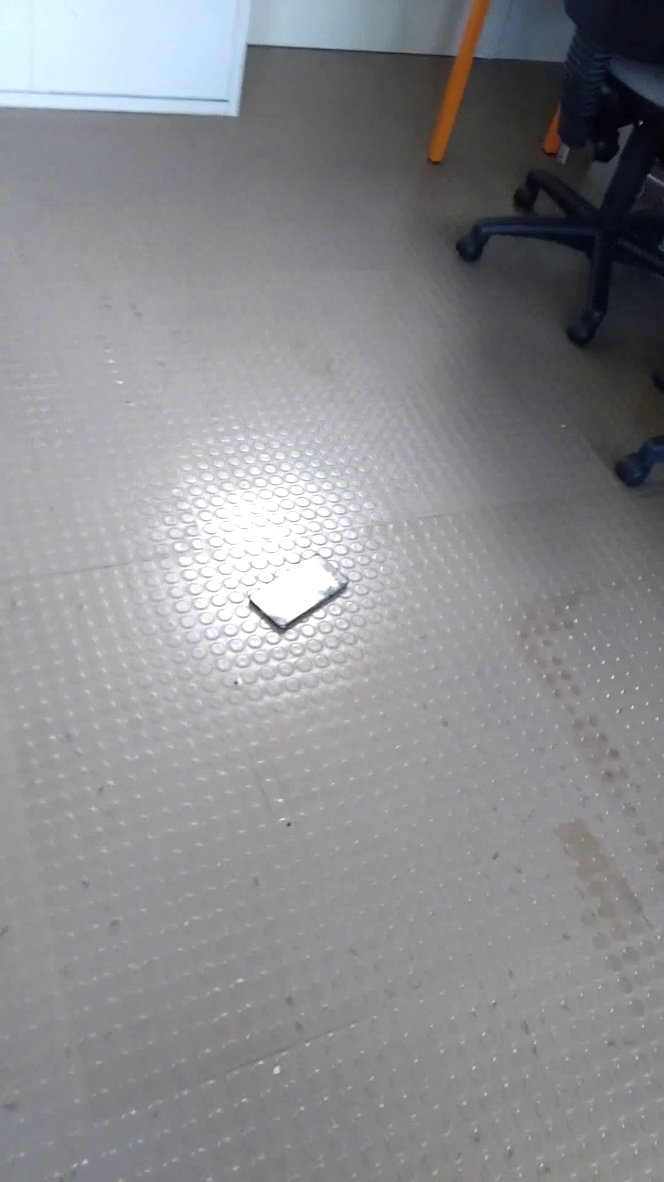phone: (237, 544, 357, 648)
